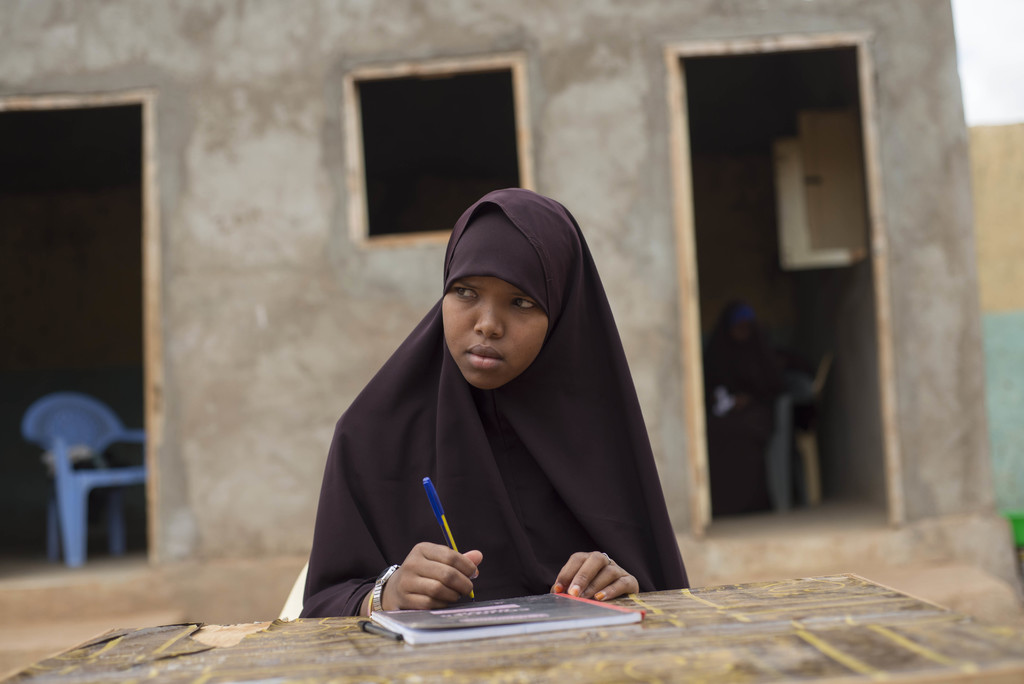Person: (702, 298, 778, 518)
